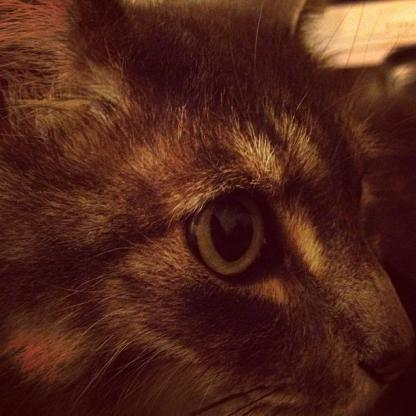Target: (0, 1, 415, 416)
